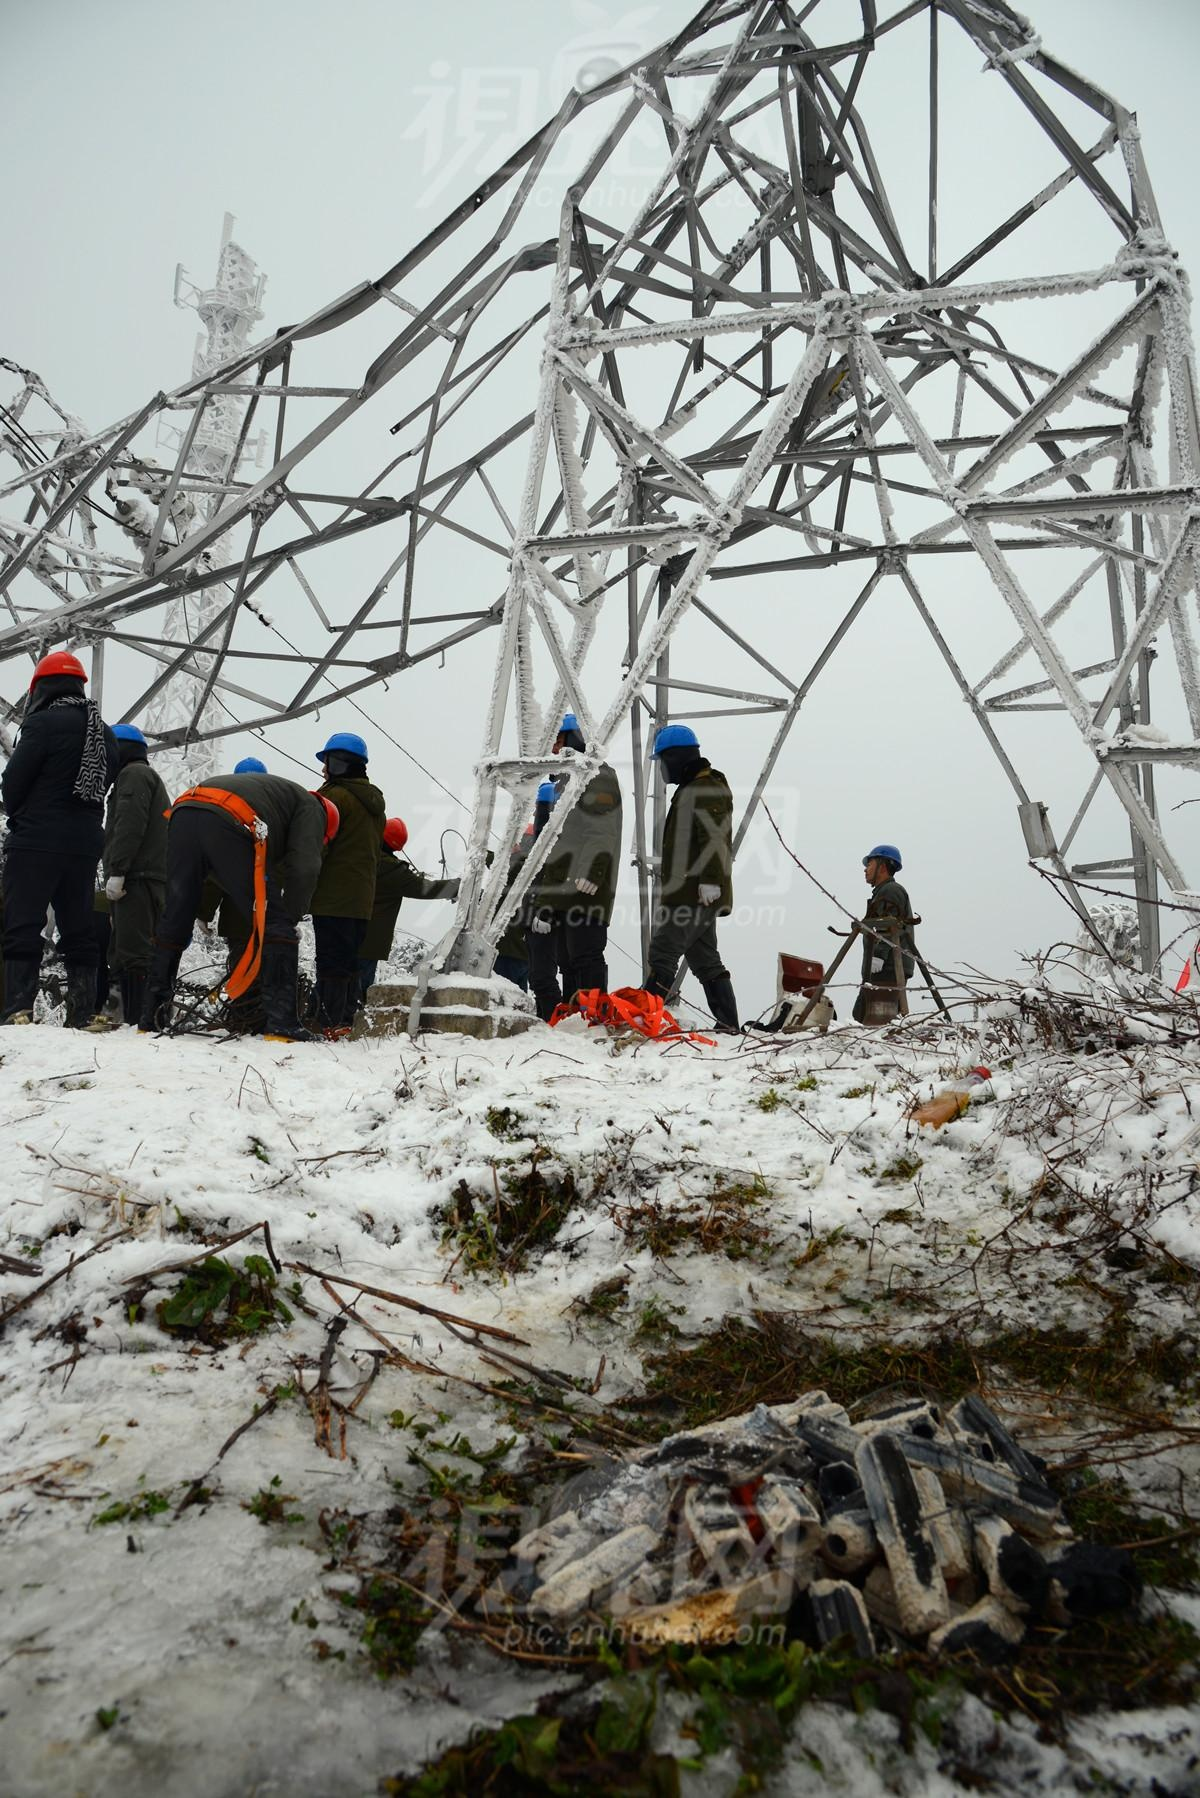blue: (652, 724, 706, 781), (316, 732, 372, 785), (103, 720, 147, 768), (545, 711, 587, 752), (862, 843, 903, 885), (529, 781, 562, 819)
red: (31, 648, 88, 702), (303, 789, 342, 847), (375, 814, 410, 854)
